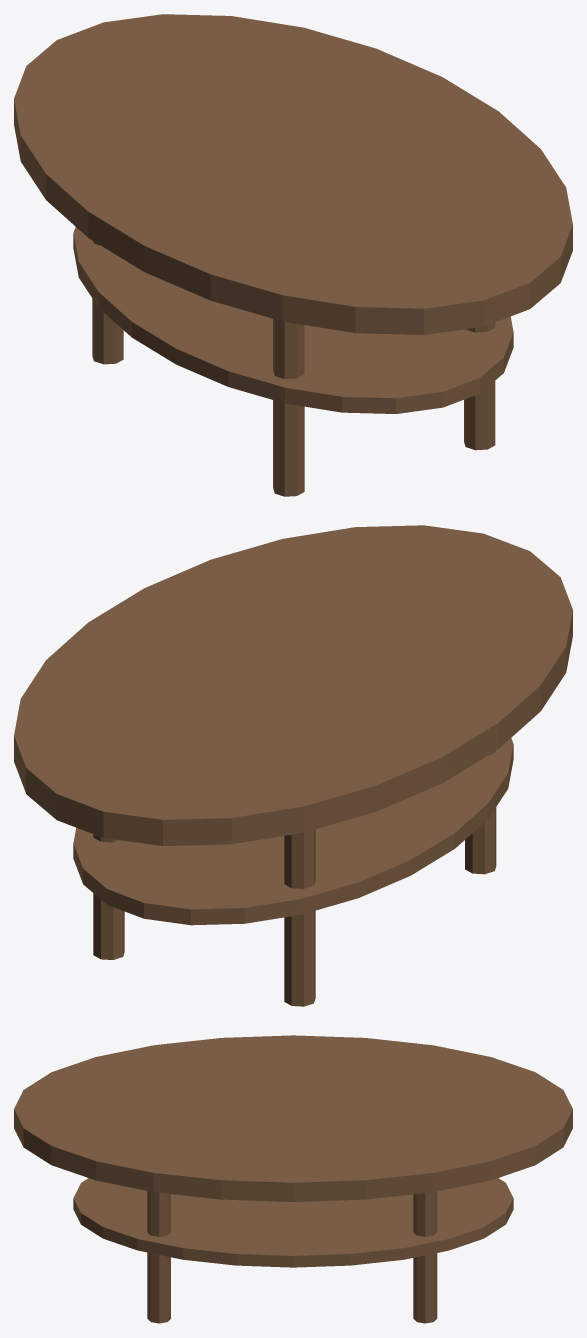
Rendered from SM_Table_01.glb.
The picture shows the model from 3 angles, top to bottom: view 1: azimuth 30°, elevation 25°; view 2: azimuth 150°, elevation 25°; view 3: azimuth 270°, elevation 25°; orthographic projection. The views are drawn at different scales.
Parts seen in each view (by area): view 1: SM_Table_01; view 2: SM_Table_01; view 3: SM_Table_01.
Boxes of the visible parts, x1,y1,x2,y2 form: SM_Table_01: (14, 14, 572, 496); SM_Table_01: (14, 525, 572, 1006); SM_Table_01: (14, 1035, 572, 1323).
Size of the model in its own units: 1.25 by 0.6926 by 2.
Materials: 1 (1 with a texture image).
